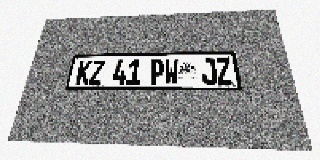1: (126, 59, 141, 85)
4: (112, 60, 128, 85)
J: (201, 58, 217, 84)
K: (75, 60, 92, 85)
P: (150, 59, 164, 85)
W: (164, 59, 178, 85)
Z: (215, 58, 233, 84), (88, 60, 105, 85)
